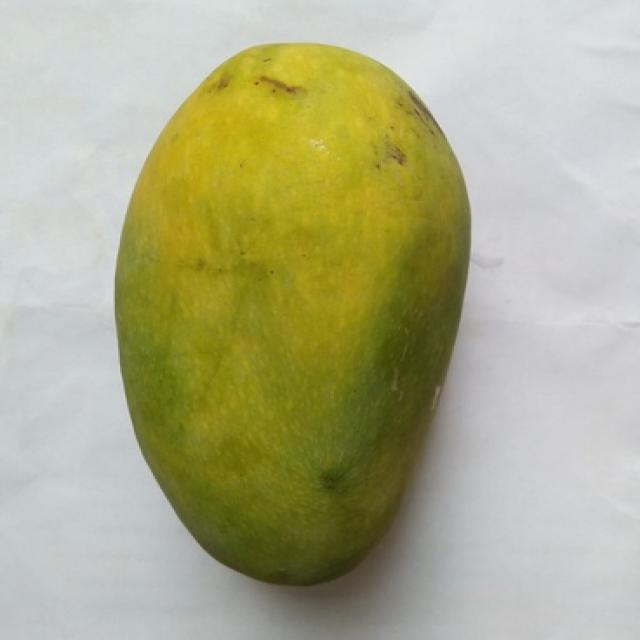Mango: (117, 44, 468, 583)
